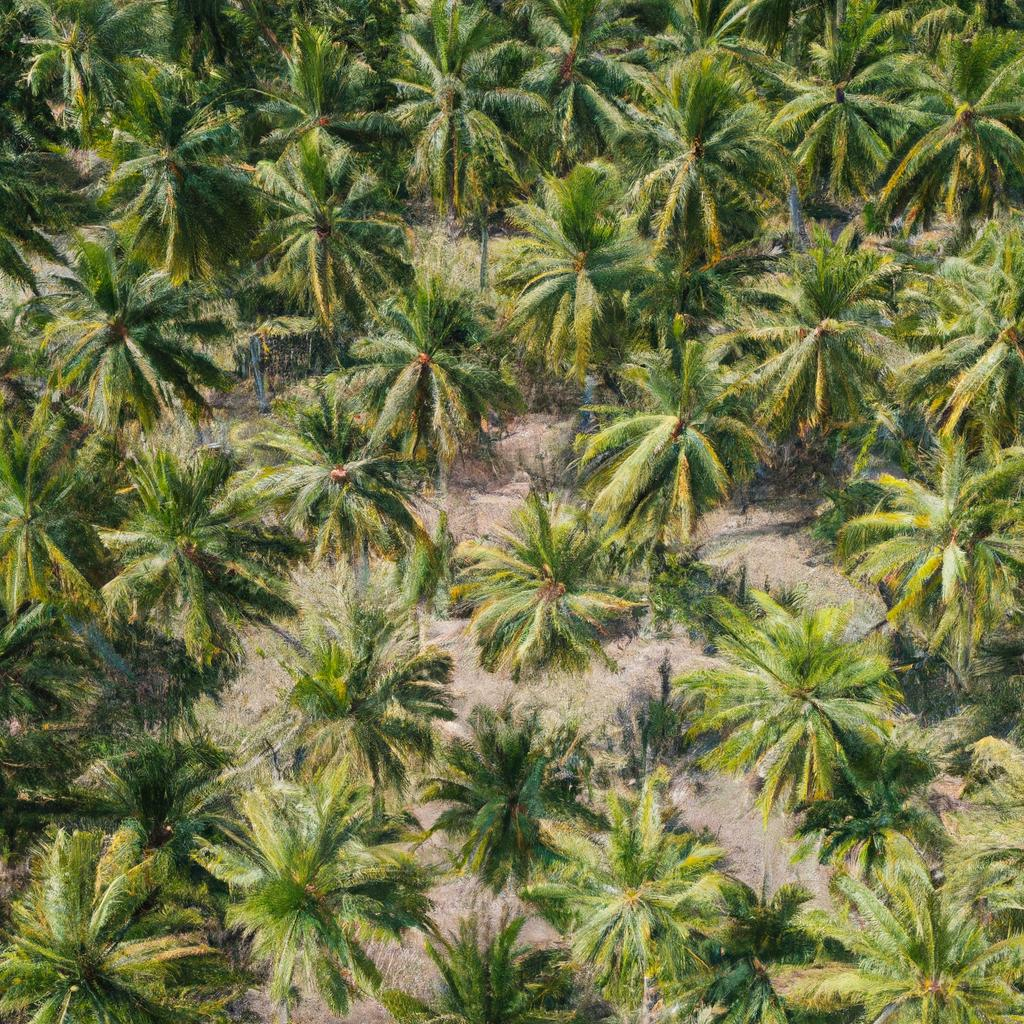coconut_tree: (201, 756, 443, 978), (518, 797, 772, 1002), (15, 234, 251, 410), (696, 578, 897, 783), (570, 345, 772, 524), (108, 459, 293, 651), (735, 240, 921, 420), (78, 67, 261, 247), (845, 469, 1023, 653), (450, 505, 637, 665), (385, 4, 547, 186), (609, 86, 794, 240), (499, 170, 662, 339), (359, 294, 516, 454)
